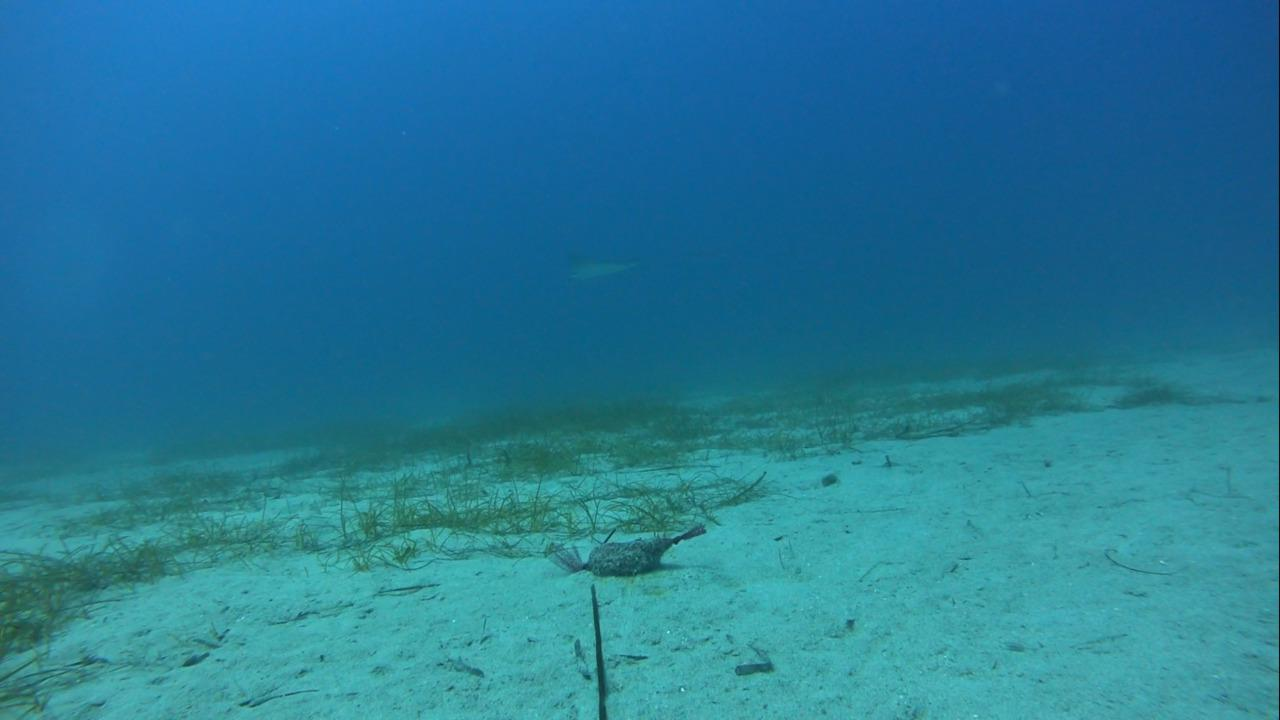myliobatis: (557, 236, 738, 284)
